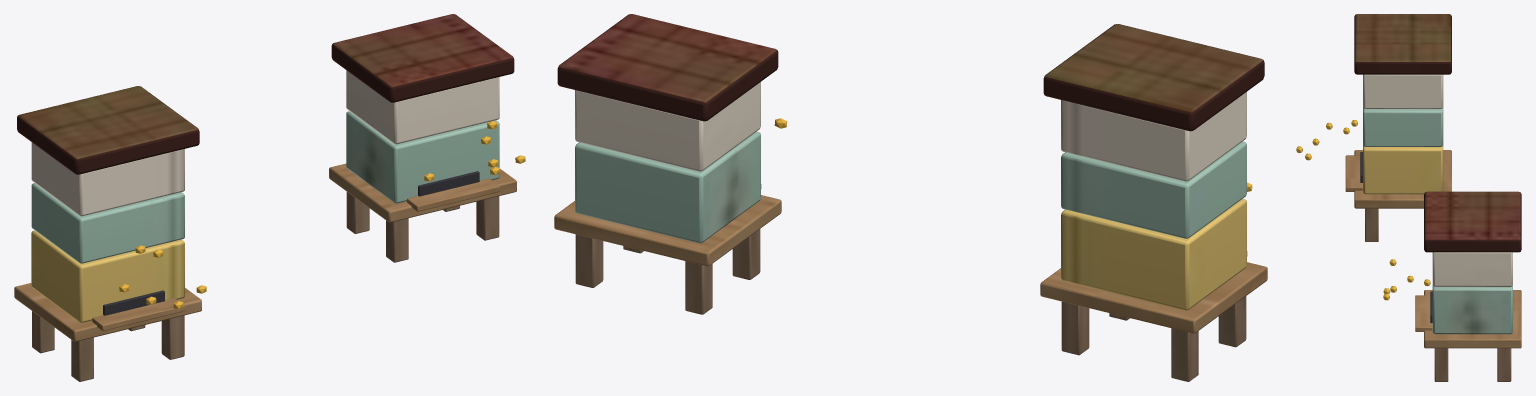
The model's file is unlock-beehive-ha.glb.
3 views of the same model, side by side, from view 1: azimuth 30°, elevation 25°; view 2: azimuth 150°, elevation 25°; view 3: azimuth 270°, elevation 25° (orthographic). The views are drawn at different scales.
Parts seen in each view (by area): view 1: unlock-beehive-static; view 2: unlock-beehive-static; view 3: unlock-beehive-static.
Part boxes in pixels (<box>): unlock-beehive-static: <box>14,14,516,381</box>; unlock-beehive-static: <box>554,14,1267,381</box>; unlock-beehive-static: <box>1345,14,1521,381</box>.
Size of the model in its own units: 1.29 by 0.5849 by 0.6466.
14 materials, 12 textured.
